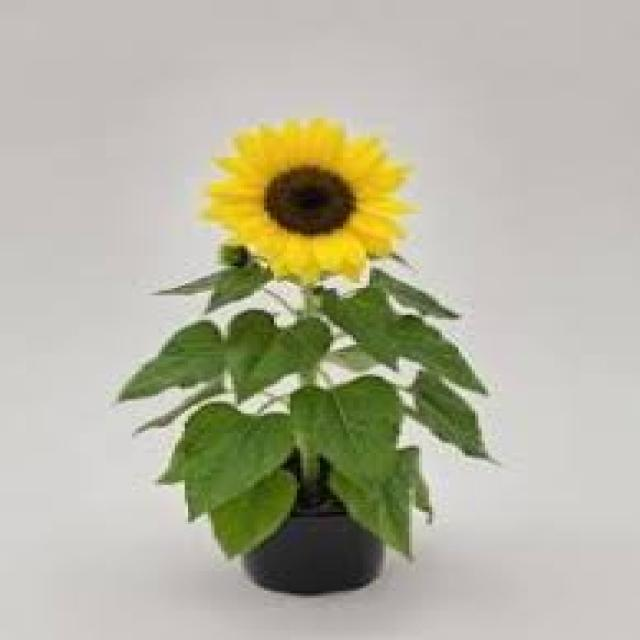sunflower: (189, 109, 425, 299)
